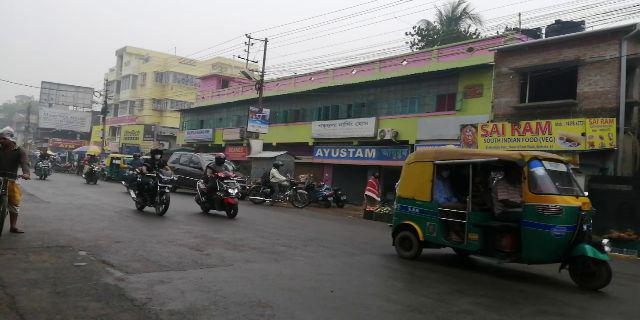Autorickshaw: (392, 150, 616, 277)
Car: (163, 147, 243, 201)
Motorbike: (193, 151, 242, 218), (130, 151, 176, 215)
